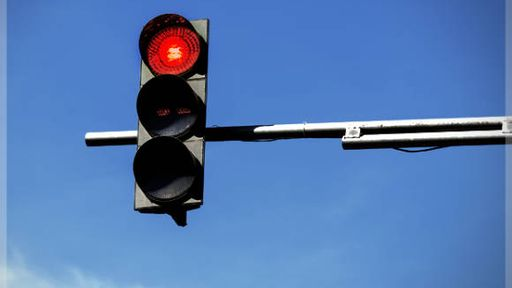traffic light: (103, 7, 236, 239)
